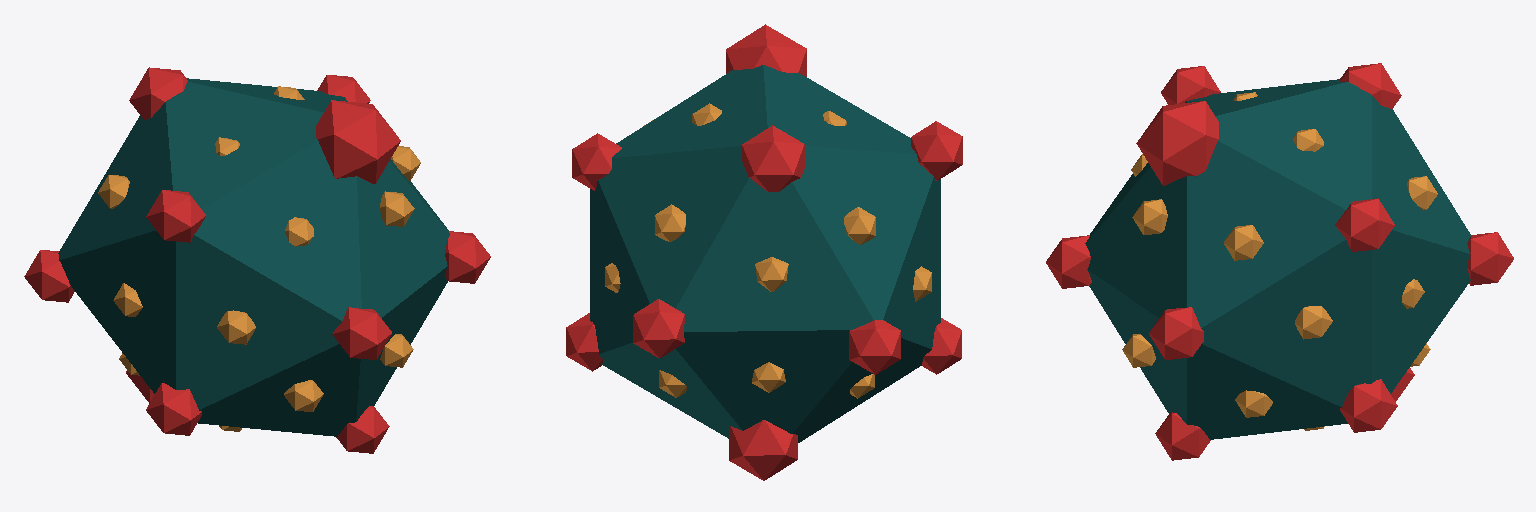
The model's file is virus1.obj.
3 renders of one model, left to right at view 1: azimuth 30°, elevation 25°; view 2: azimuth 150°, elevation 25°; view 3: azimuth 270°, elevation 25°, orthographic.
Visible parts, largest first — view 1: Virus1 pPlatonic16, pPlatonic18 Virus1, Virus1 pPlatonic17, Virus1 pPlatonic23, Virus1 pPlatonic27, Virus1 pPlatonic26, Virus1 pPlatonic15, Virus1 pPlatonic21, Virus1 pPlatonic22, Virus1 pPlatonic39, Virus1 pPlatonic35, Virus1 pPlatonic24 (+6 smaller); view 2: Virus1 pPlatonic16, Virus1 pPlatonic15, Virus1 pPlatonic25, pPlatonic18 Virus1, Virus1 pPlatonic20, Virus1 pPlatonic21, Virus1 pPlatonic17, Virus1 pPlatonic24, Virus1 pPlatonic19, Virus1 pPlatonic27, Virus1 pPlatonic28, Virus1 pPlatonic31 (+2 smaller); view 3: Virus1 pPlatonic16, pPlatonic18 Virus1, Virus1 pPlatonic24, Virus1 pPlatonic26, Virus1 pPlatonic19, Virus1 pPlatonic20, Virus1 pPlatonic23, Virus1 pPlatonic22, Virus1 pPlatonic17, Virus1 pPlatonic15, Virus1 pPlatonic33, Virus1 pPlatonic35 (+5 smaller).
Boxes of the visible parts, x1=… form: Virus1 pPlatonic16: x1=58, y1=78, x2=449, y2=436; pPlatonic18 Virus1: x1=316, y1=100, x2=400, y2=183; Virus1 pPlatonic17: x1=146, y1=190, x2=205, y2=242; Virus1 pPlatonic23: x1=332, y1=307, x2=391, y2=359; Virus1 pPlatonic27: x1=146, y1=383, x2=201, y2=435; Virus1 pPlatonic26: x1=445, y1=231, x2=490, y2=283; Virus1 pPlatonic15: x1=129, y1=67, x2=187, y2=119; Virus1 pPlatonic21: x1=24, y1=250, x2=74, y2=302; Virus1 pPlatonic22: x1=336, y1=406, x2=389, y2=453; Virus1 pPlatonic39: x1=217, y1=310, x2=255, y2=344; Virus1 pPlatonic35: x1=380, y1=191, x2=414, y2=226; Virus1 pPlatonic24: x1=317, y1=75, x2=370, y2=103; Virus1 pPlatonic16: x1=590, y1=65, x2=940, y2=442; Virus1 pPlatonic15: x1=742, y1=125, x2=804, y2=191; Virus1 pPlatonic25: x1=729, y1=420, x2=797, y2=480; pPlatonic18 Virus1: x1=726, y1=24, x2=806, y2=76; Virus1 pPlatonic20: x1=633, y1=299, x2=684, y2=358; Virus1 pPlatonic21: x1=849, y1=320, x2=900, y2=374; Virus1 pPlatonic17: x1=911, y1=121, x2=962, y2=180; Virus1 pPlatonic24: x1=572, y1=133, x2=621, y2=190; Virus1 pPlatonic19: x1=566, y1=313, x2=602, y2=371; Virus1 pPlatonic27: x1=922, y1=318, x2=961, y2=374; Virus1 pPlatonic28: x1=844, y1=207, x2=875, y2=244; Virus1 pPlatonic31: x1=655, y1=204, x2=685, y2=241; Virus1 pPlatonic16: x1=1085, y1=79, x2=1471, y2=439; pPlatonic18 Virus1: x1=1136, y1=101, x2=1218, y2=185; Virus1 pPlatonic24: x1=1335, y1=198, x2=1394, y2=251; Virus1 pPlatonic26: x1=1149, y1=307, x2=1203, y2=359; Virus1 pPlatonic19: x1=1340, y1=379, x2=1397, y2=432; Virus1 pPlatonic20: x1=1467, y1=232, x2=1513, y2=285; Virus1 pPlatonic23: x1=1046, y1=235, x2=1091, y2=288; Virus1 pPlatonic22: x1=1155, y1=412, x2=1210, y2=460; Virus1 pPlatonic17: x1=1161, y1=66, x2=1220, y2=104; Virus1 pPlatonic15: x1=1340, y1=63, x2=1401, y2=108; Virus1 pPlatonic33: x1=1224, y1=225, x2=1263, y2=260; Virus1 pPlatonic35: x1=1132, y1=199, x2=1167, y2=234.
Bounding box in the file's own units: 1.99 × 1.85 × 2.27.